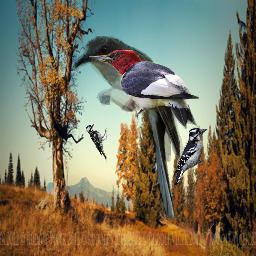Cuckoo: (73, 36, 184, 218)
Woodpecker: (89, 50, 199, 129), (173, 127, 208, 186), (85, 123, 108, 164)
